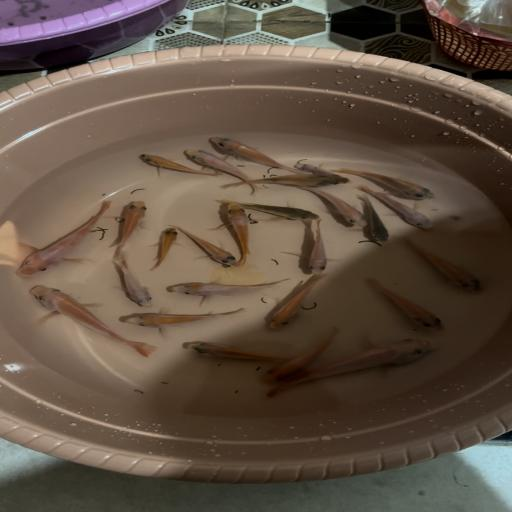nila: (29, 282, 161, 357), (12, 199, 116, 279), (300, 334, 434, 388), (399, 236, 490, 297), (358, 276, 451, 332), (260, 328, 342, 383), (259, 275, 332, 333), (346, 162, 442, 201), (209, 136, 308, 173), (362, 182, 438, 230), (182, 148, 260, 192), (164, 273, 294, 299), (297, 185, 369, 230), (106, 250, 160, 310), (178, 339, 288, 368), (215, 201, 263, 265), (215, 195, 326, 222), (171, 224, 239, 268), (116, 307, 252, 329), (221, 172, 353, 192), (132, 152, 226, 178), (302, 218, 343, 275), (358, 194, 393, 248), (114, 199, 152, 248), (146, 224, 183, 272), (294, 161, 335, 175)
